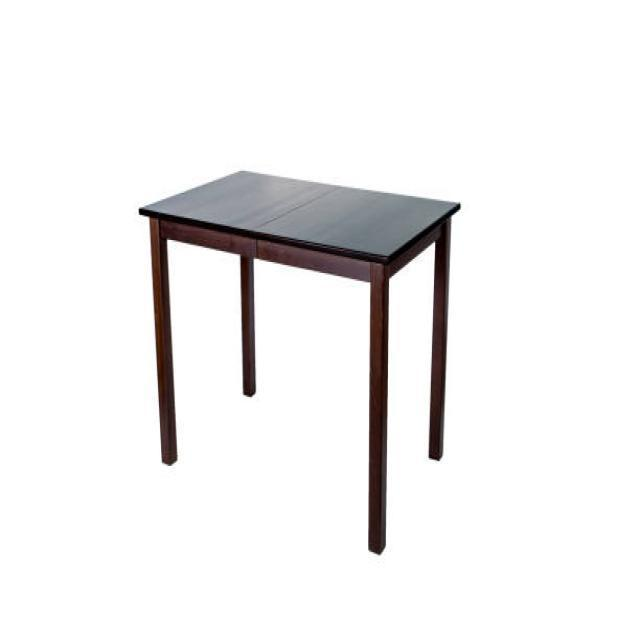table: (137, 166, 461, 554)
